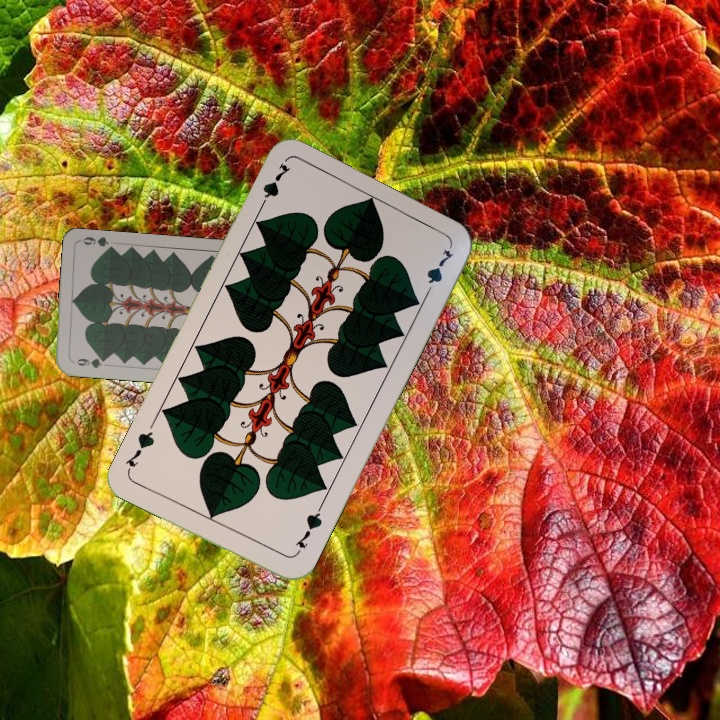G7: (254, 159, 293, 215), (291, 502, 325, 558)
G9: (68, 354, 109, 371)
